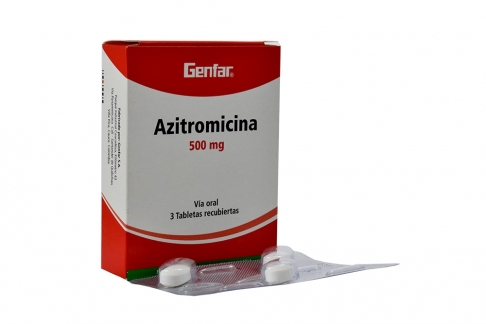Genfar: (129, 47, 280, 284)
